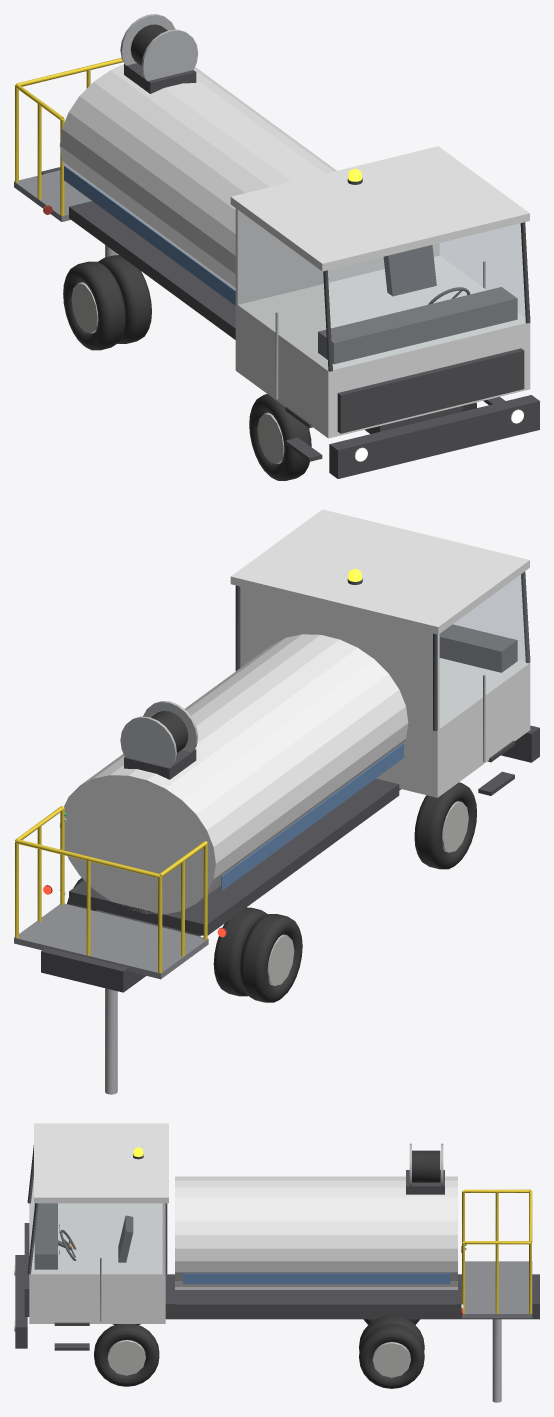
The model's file is WaterTruck.glb.
The picture shows the model from 3 angles, top to bottom: view 1: azimuth 30°, elevation 25°; view 2: azimuth 150°, elevation 25°; view 3: azimuth 270°, elevation 25°; orthographic projection. The views are drawn at different scales.
Visible parts, largest first — view 1: Body, Wheel_RR, ServicePlatform, HoseReel, Wheel_FR; view 2: Body, ServicePlatform, Wheel_RR, Wheel_FR, HoseReel; view 3: Body, ServicePlatform, Wheel_RL, Wheel_FL, HoseReel.
Boxes of the visible parts, x1,y1,x2,y2 form: Body: (41, 63, 539, 478); Wheel_RR: (63, 255, 151, 350); ServicePlatform: (14, 58, 123, 257); HoseReel: (120, 14, 198, 80); Wheel_FR: (249, 394, 311, 480); Body: (41, 509, 539, 992); ServicePlatform: (14, 806, 208, 1094); Wheel_RR: (213, 907, 302, 1002); Wheel_FR: (414, 782, 476, 869); HoseReel: (120, 701, 198, 767); Body: (14, 1123, 539, 1350); ServicePlatform: (462, 1189, 532, 1402); Wheel_RL: (359, 1315, 424, 1388); Wheel_FL: (94, 1324, 159, 1386); HoseReel: (409, 1143, 443, 1186).
Size of what is drawn, in the model's own units: 2.29 by 3.61 by 6.75.
